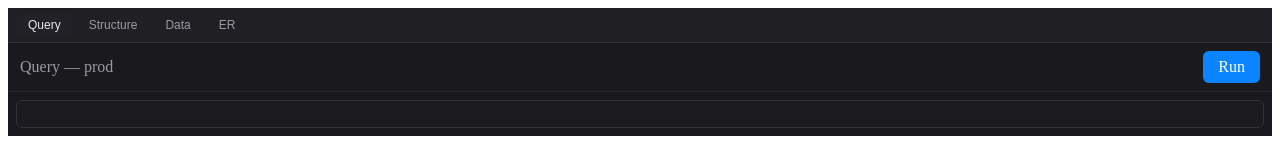
Test case: ConnectionWorkspace › Structure 서브탭으로 전환하면 스키마 네비가 뜬다
Click the button with test id "subtab-structure".
click(113, 25)  # box [77,14,149,36]
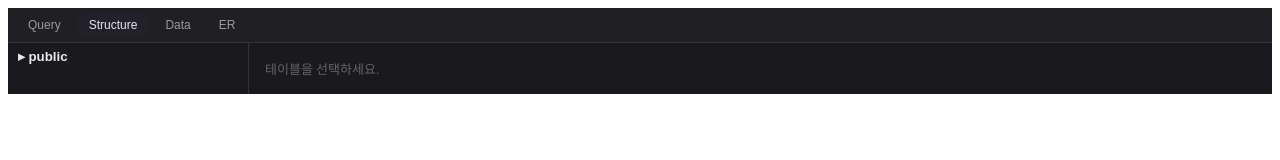
Expected: the button "▸ public" is shown, [8,43,248,70]
Expected: the text "Query — prod" is gone
